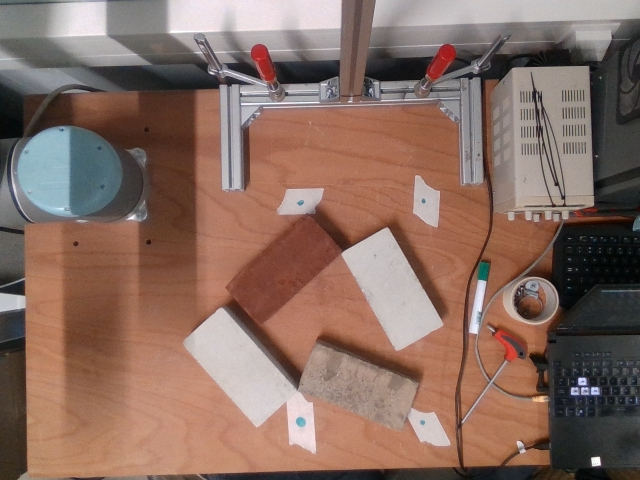brick: (184, 309, 294, 424), (228, 218, 338, 320), (346, 230, 440, 346), (299, 346, 414, 428)
